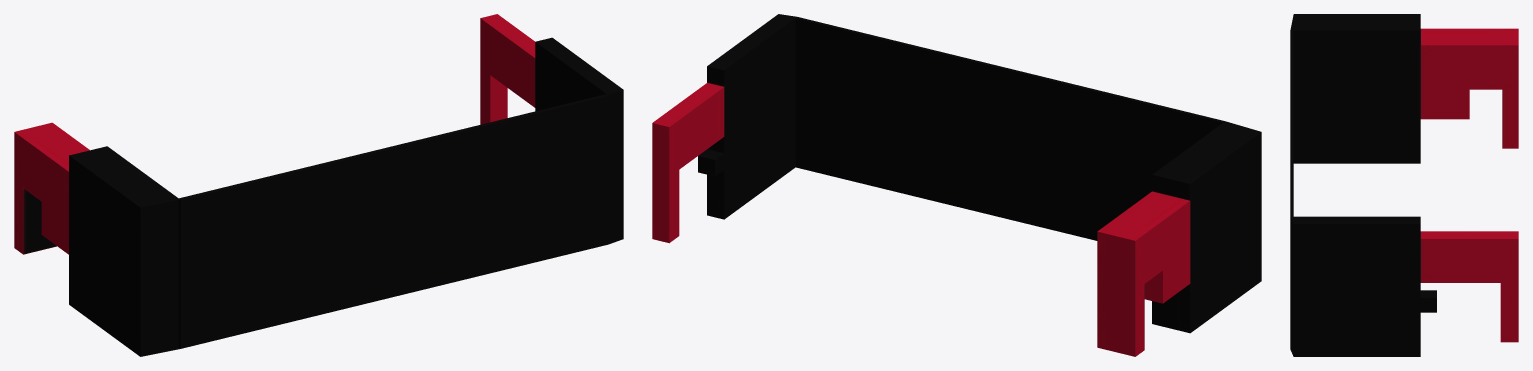
Rendered from sunnies_mirror.glb.
3 renders of one model, left to right at view 1: azimuth 30°, elevation 25°; view 2: azimuth 150°, elevation 25°; view 3: azimuth 270°, elevation 25°, orthographic. The views are drawn at different scales.
Parts seen in each view (by area): view 1: mirrot_sunnies.001; view 2: mirrot_sunnies.001; view 3: mirrot_sunnies.001.
Part boxes in pixels (left/top/right/bottom): mirrot_sunnies.001: left=14, top=14, right=623, bottom=356; mirrot_sunnies.001: left=652, top=14, right=1261, bottom=356; mirrot_sunnies.001: left=1290, top=14, right=1518, bottom=356.
Size of the model in its own units: 3.05 by 0.9 by 1.4.
Materials: 1 (1 with a texture image).
